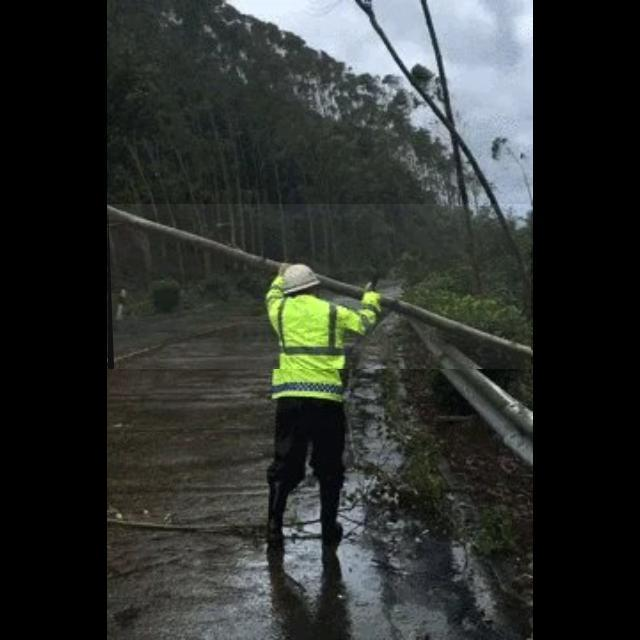fallen_tree: (108, 204, 532, 370)
